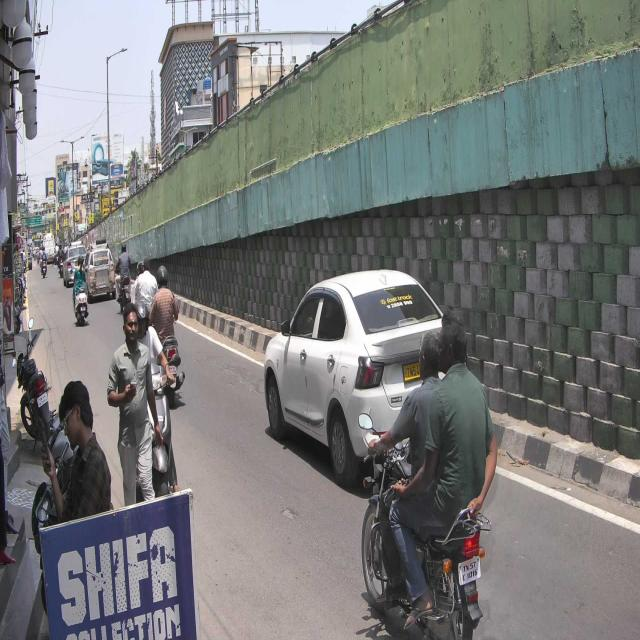double_rider: (358, 307, 500, 640)
